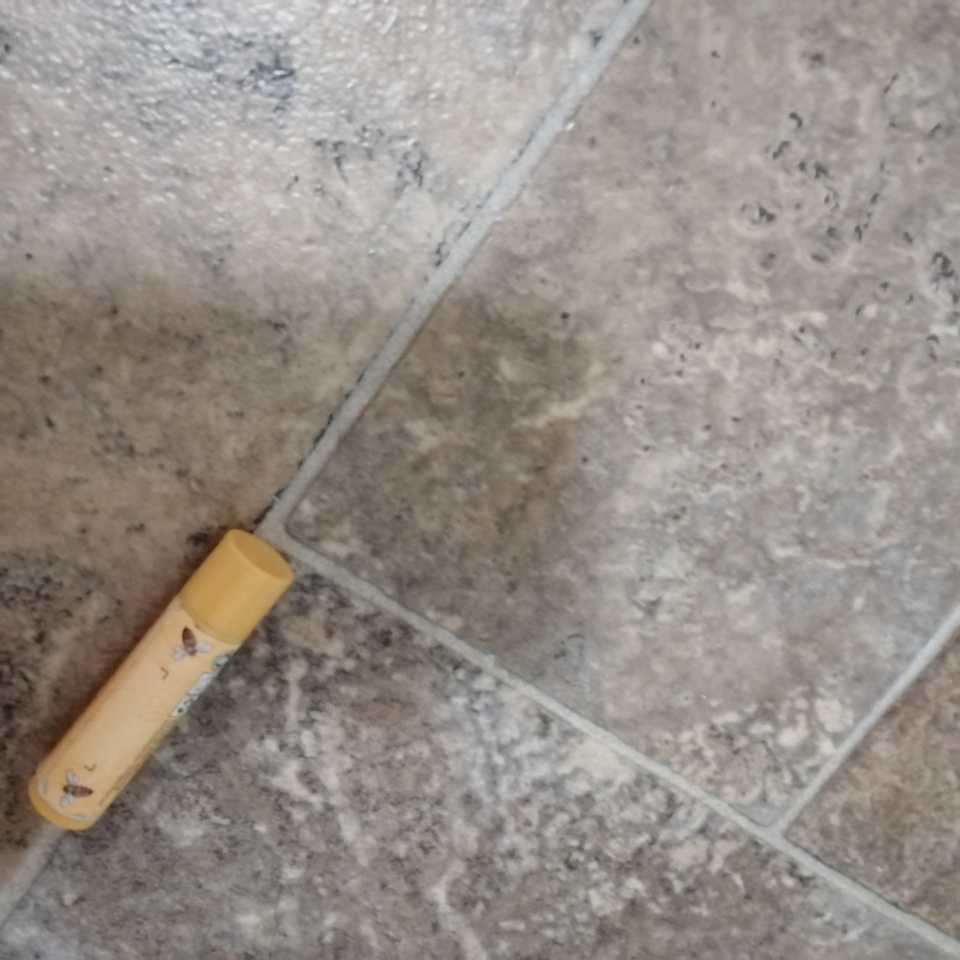chapstick: (31, 525, 292, 832)
